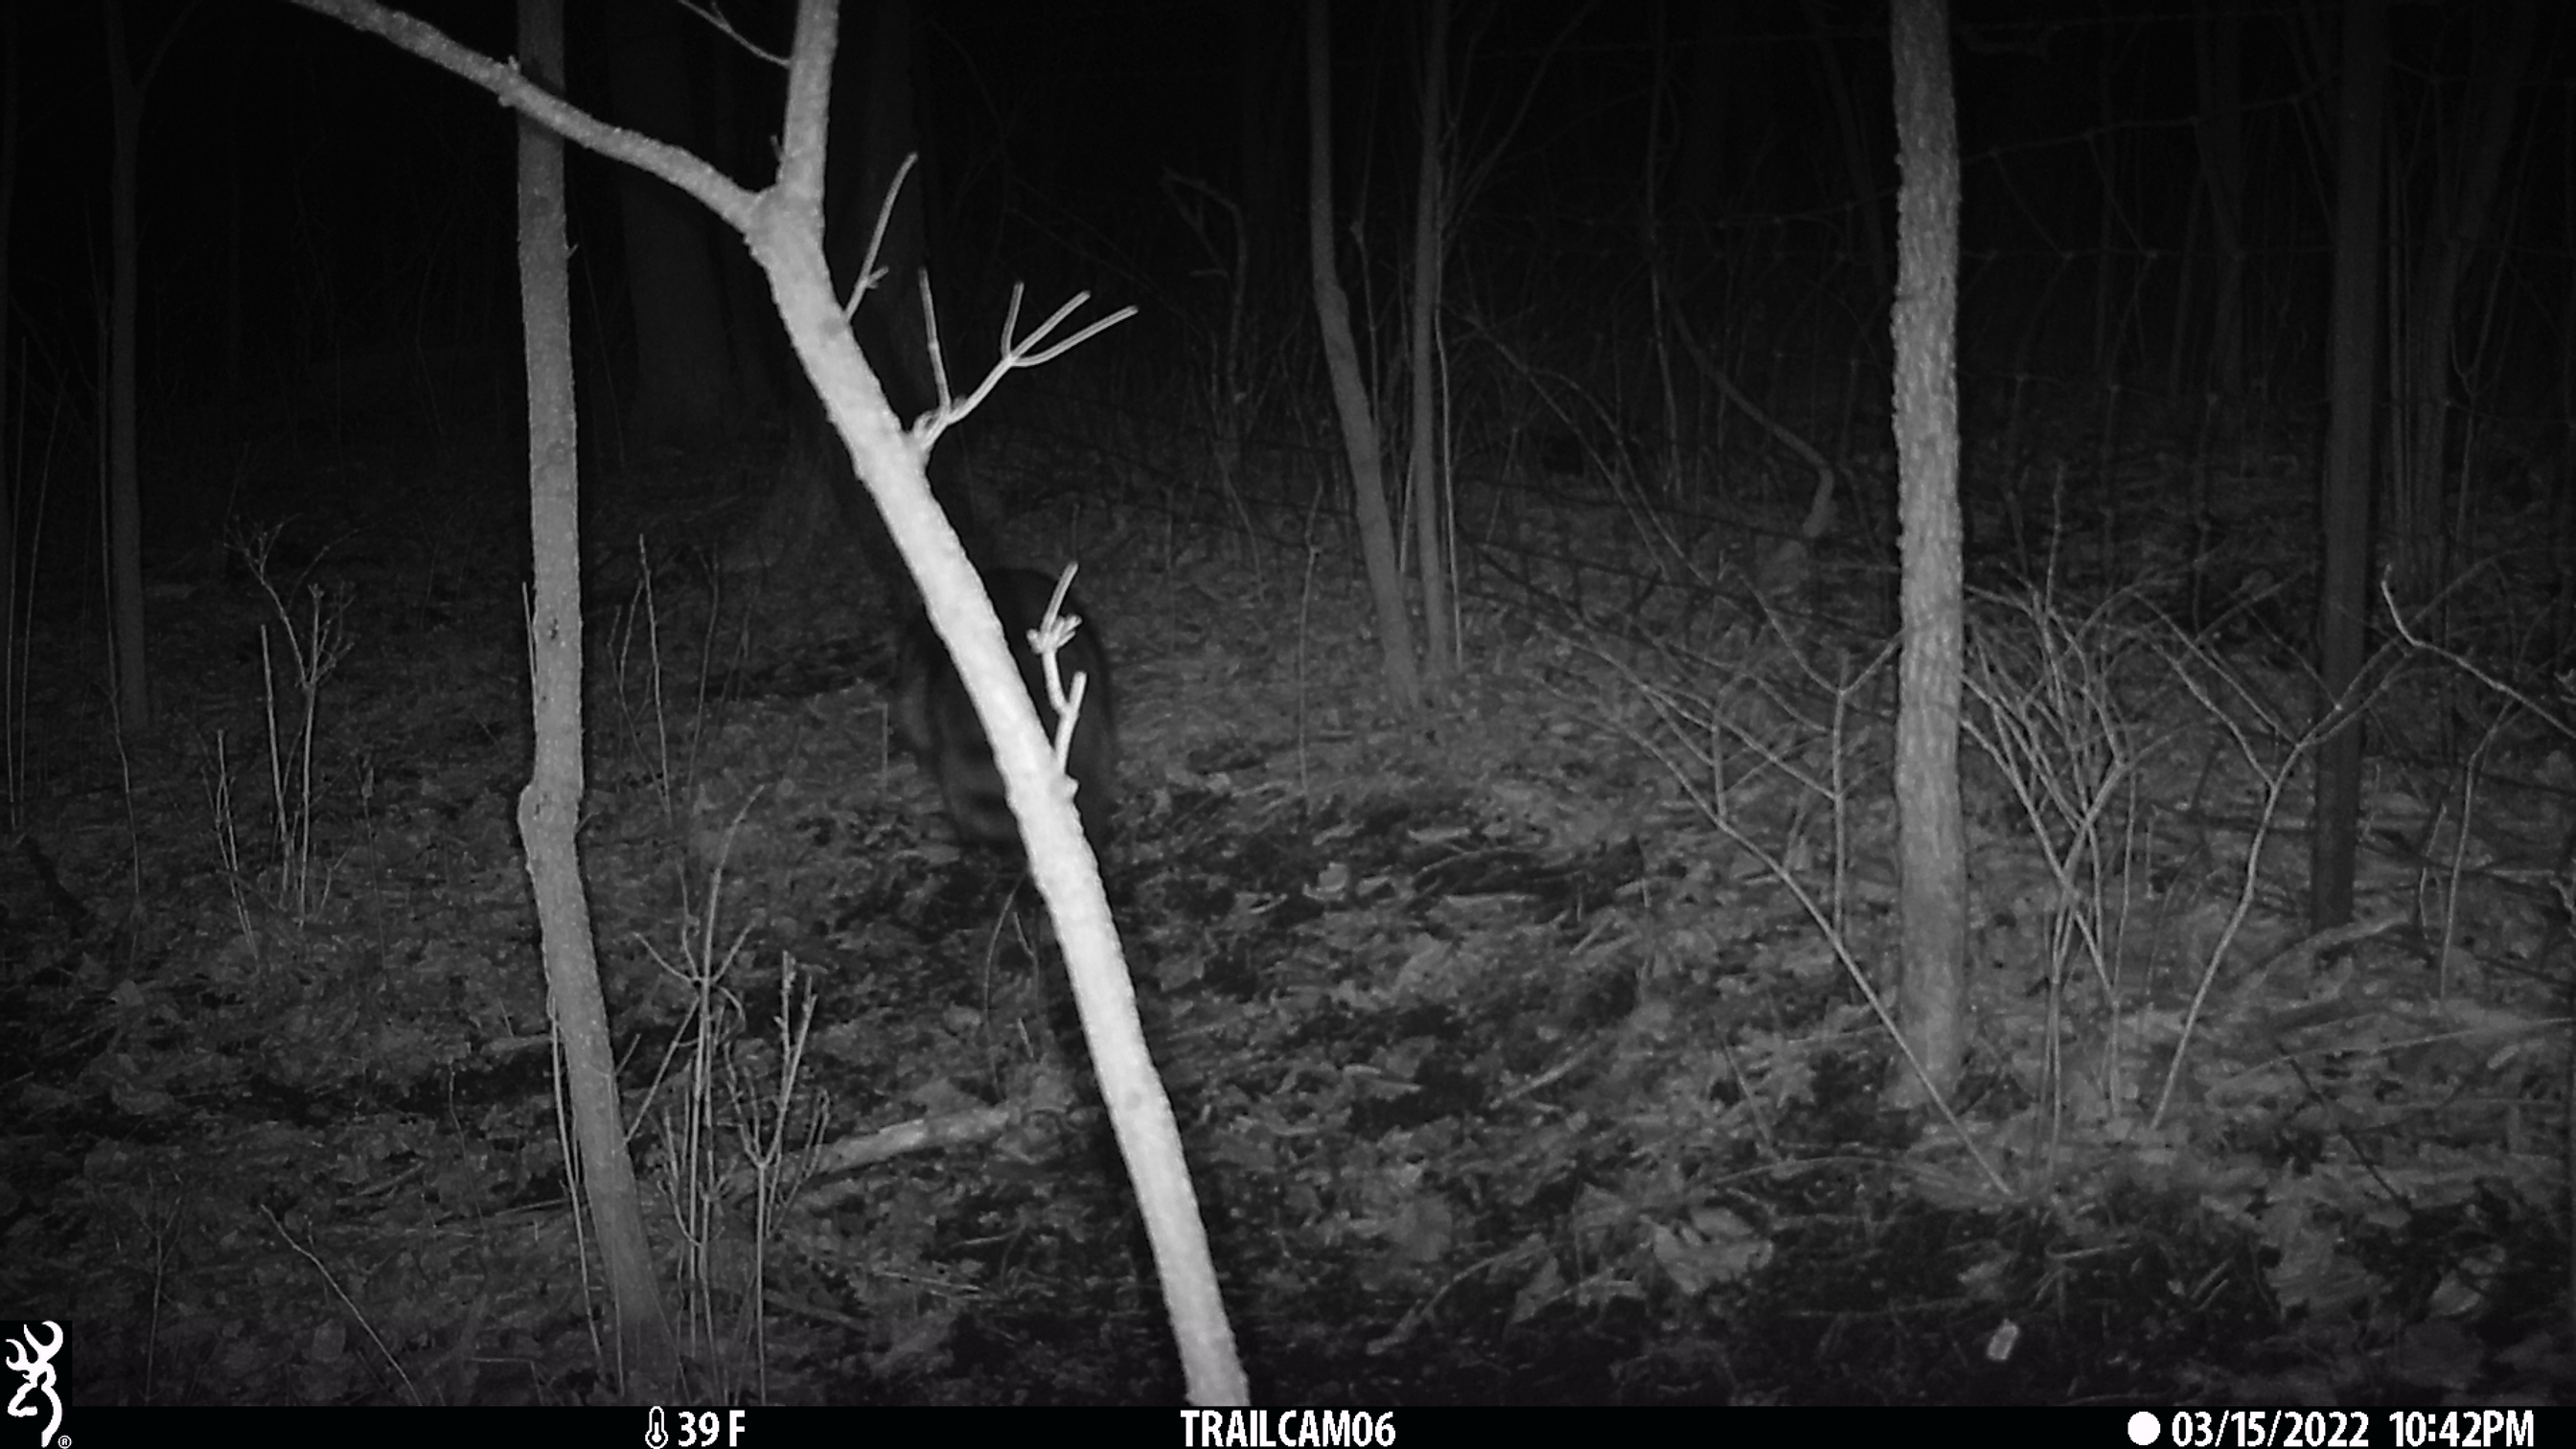Raccoon: (895, 557, 1122, 867)
